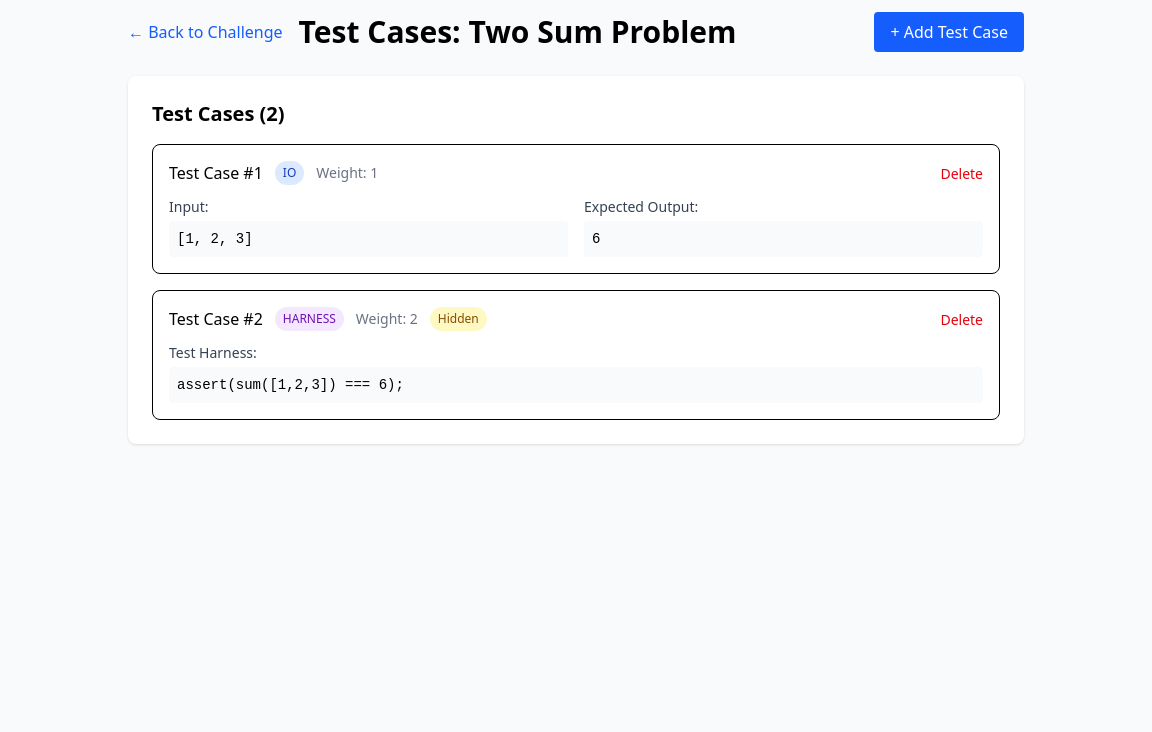
Test: TestCaseManager › form toggle functionality › should show form when add button is clicked
Step 1. Click the button "+ Add Test Case" → (949,32), box [874,12,1024,52]
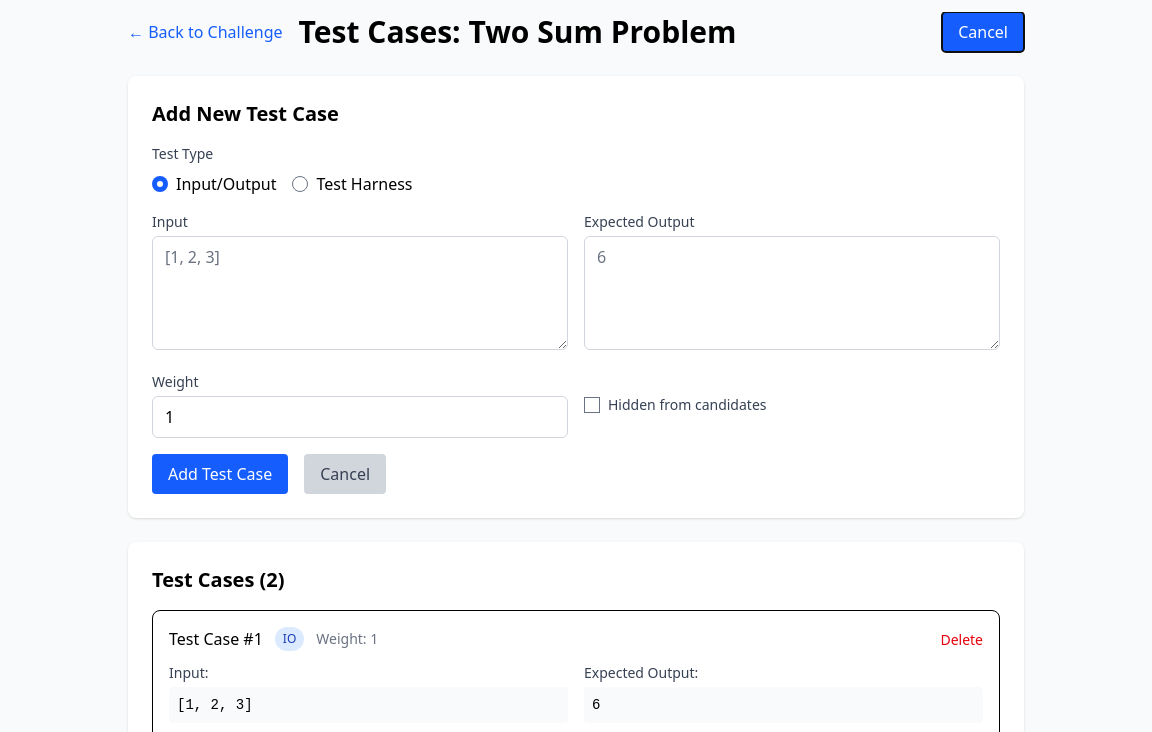
Expected: the heading "Add New Test Case" is shown, [152,100,339,127]
Expected: the button "Cancel" below "Hidden from candidates" is shown, [304,454,386,494]
